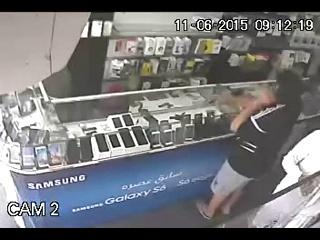Normal: (195, 68, 308, 222), (249, 160, 320, 227)
